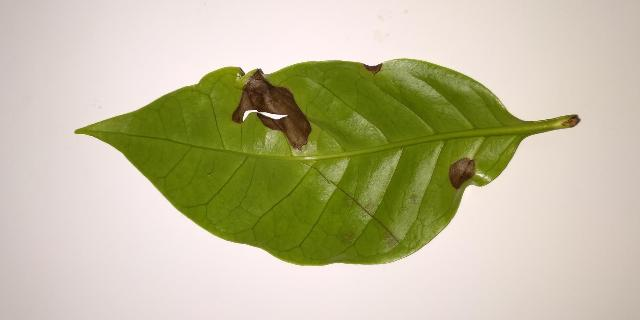rust: (232, 69, 311, 151), (448, 158, 476, 191), (362, 63, 384, 73), (385, 62, 386, 63), (360, 62, 361, 63)
